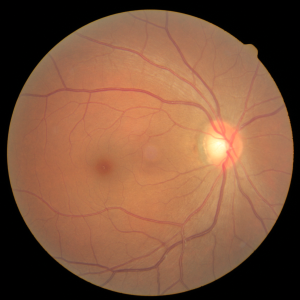healthy_eye: (45, 91, 275, 205)
